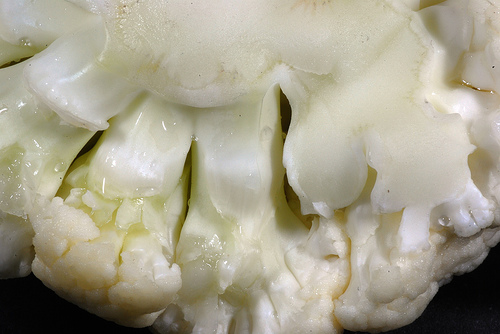cauliflower: (0, 3, 499, 333)
